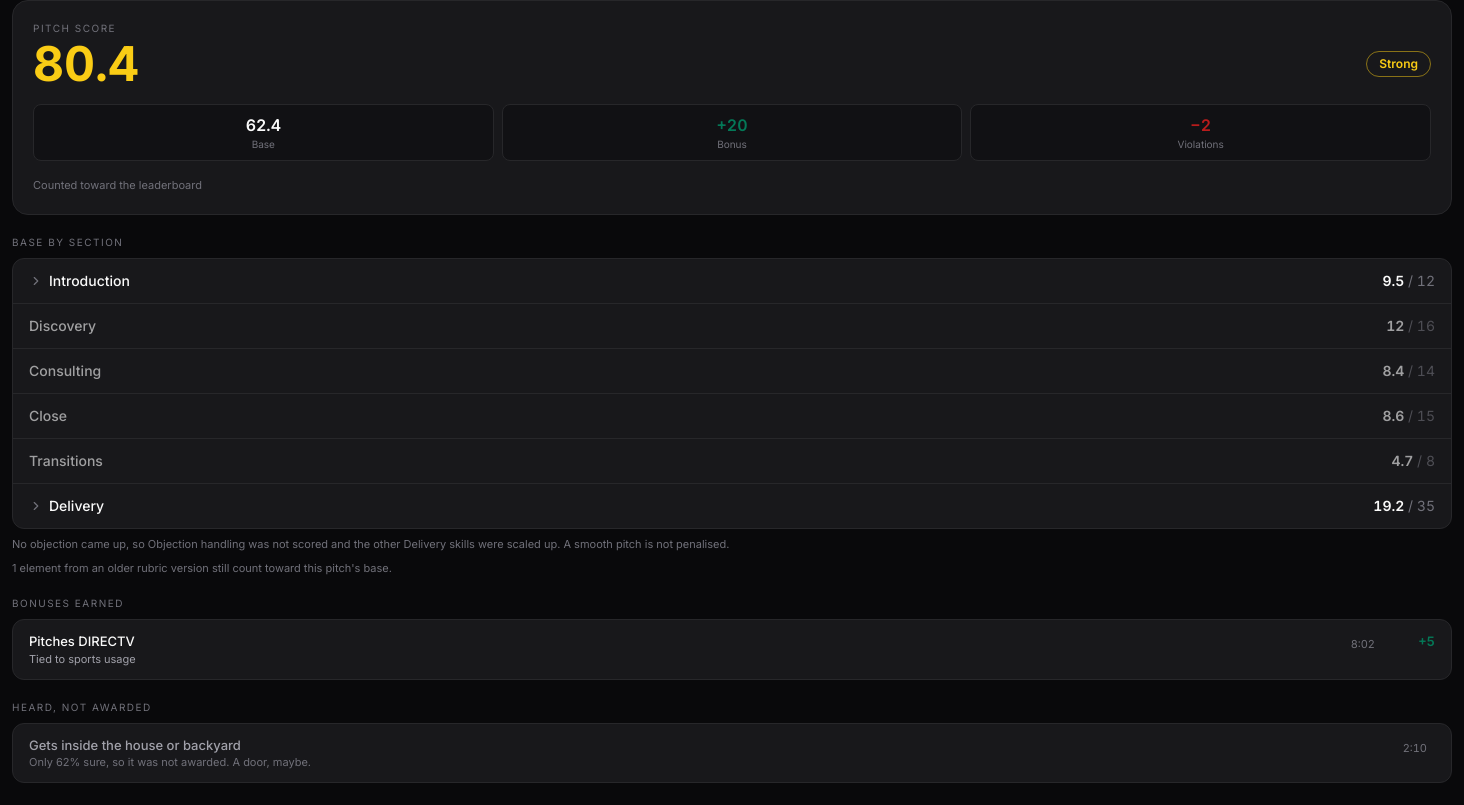
Scenario: element detail › names the grade in WORDS, not only in colour
The image size is (1464, 805).
Click the button "Delivery 19.2 / 35" at [77, 505], box [13,484,1451,528]
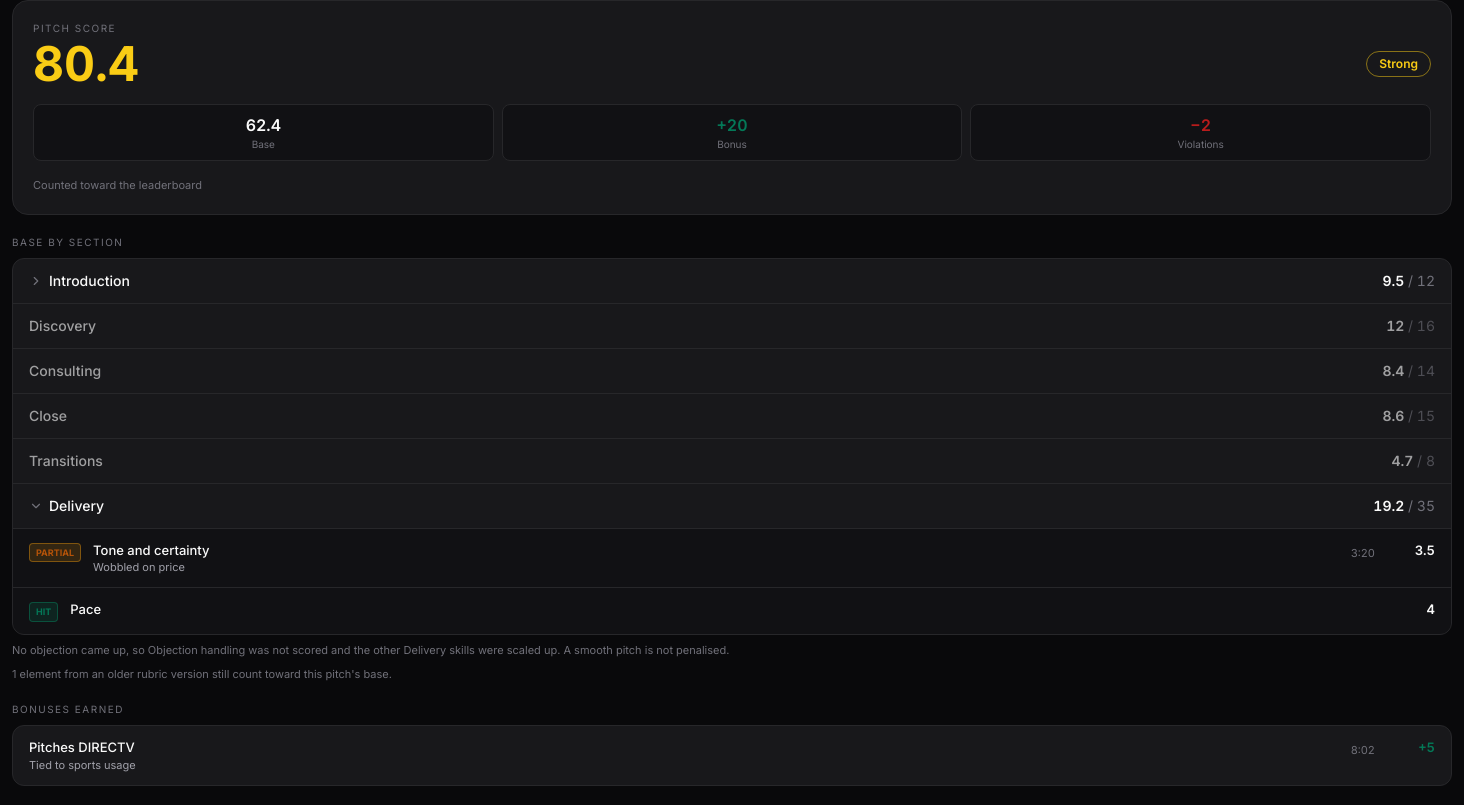
Expected: the text "HIT" is shown, [29,602,58,622]
Expected: the text "PARTIAL" is shown, [29,542,81,562]
